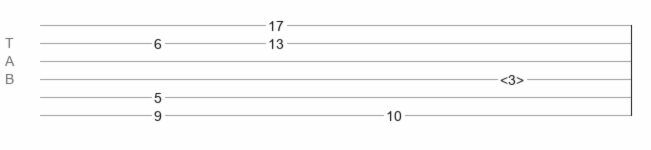10: (386, 108, 402, 118)
13: (268, 36, 284, 46)
17: (268, 18, 284, 28)
5: (154, 90, 162, 100)
6: (154, 36, 162, 46)
9: (154, 108, 162, 118)
harmonic: (500, 72, 524, 82)
